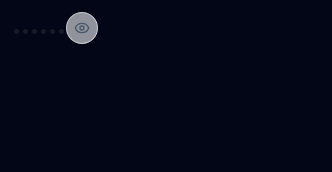
Test case: PortfolioValueVisibility › masks values by default and reveals them with the accessible toggle
This screenshot has width=332, height=172.
Later steps or results of the test are not shown.
Check: the text "••••••" is shown, box [12,20,66,40]
Click the button named "Show portfolio values": (82, 28) [66,12,98,44]
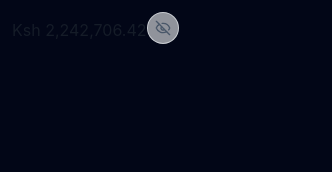
Check: the text "Ksh 2,242,706.42" is shown, box [12,20,146,40]
